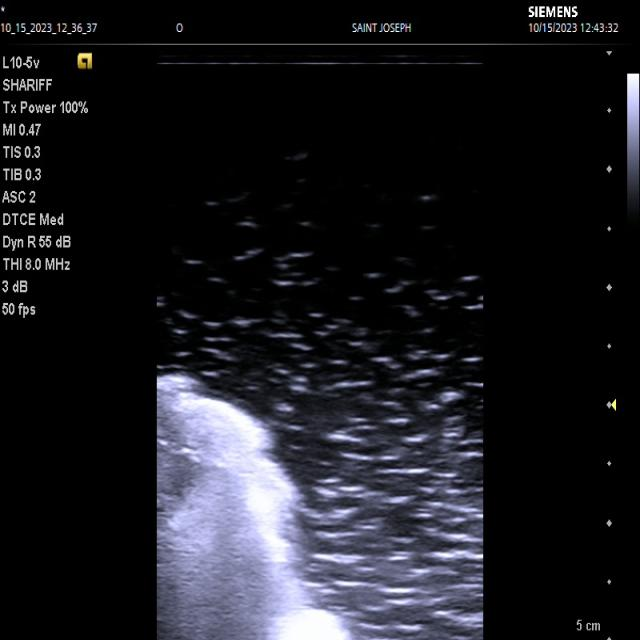tissue: (157, 372, 346, 640)
